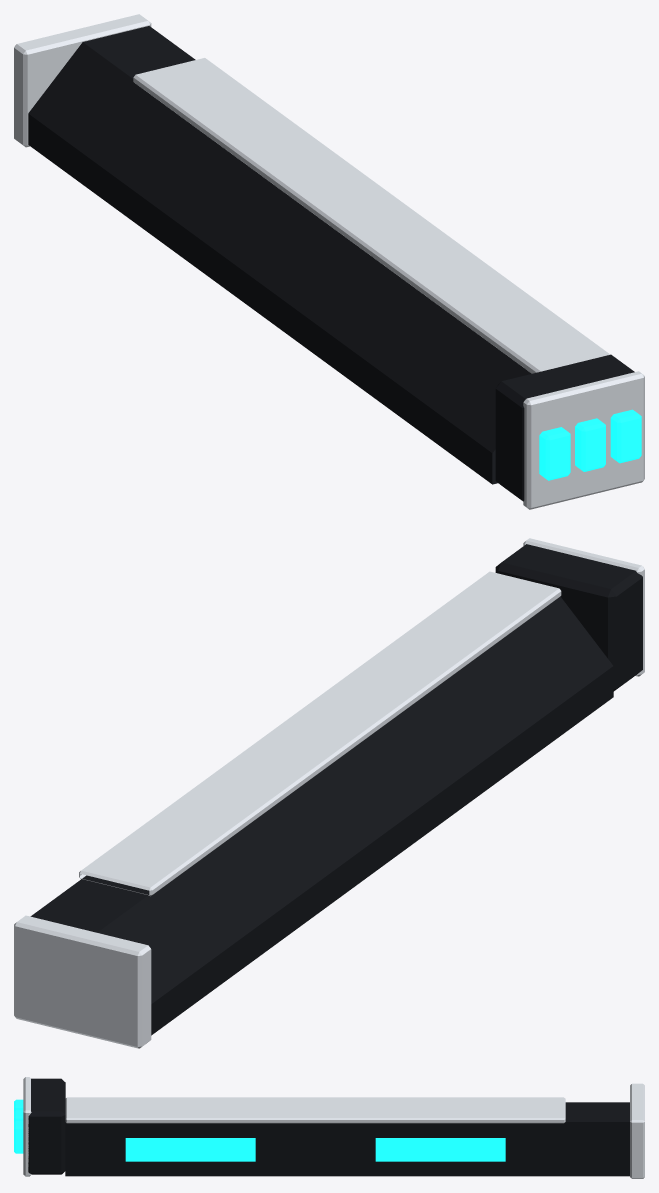
Rendered from rocket_frame.glb.
The picture shows the model from 3 angles, top to bottom: view 1: azimuth 30°, elevation 25°; view 2: azimuth 150°, elevation 25°; view 3: azimuth 270°, elevation 25°; orthographic projection. The views are drawn at different scales.
Parts seen in each view (by area): view 1: rocket_frame_MID_deco_body, rocket_frame_MID_chrome, rocket_frame_TAIL_deco_body, rocket_frame_HEAD_chrome, rocket_frame_HEAD_deco_body, rocket_frame_TAIL_chrome, rocket_frame_HEAD_deco_neon; view 2: rocket_frame_MID_deco_body, rocket_frame_MID_chrome, rocket_frame_TAIL_chrome, rocket_frame_TAIL_deco_body, rocket_frame_HEAD_deco_body, rocket_frame_HEAD_chrome; view 3: rocket_frame_MID_deco_body, rocket_frame_MID_chrome, rocket_frame_MID_deco_neon, rocket_frame_TAIL_deco_body, rocket_frame_HEAD_deco_body, rocket_frame_TAIL_chrome, rocket_frame_HEAD_chrome, rocket_frame_HEAD_deco_neon.
Part boxes in pixels (x1,y1,x2,y2): rocket_frame_MID_deco_body: (81, 83, 531, 484); rocket_frame_MID_chrome: (133, 58, 609, 373); rocket_frame_TAIL_deco_body: (28, 26, 195, 183); rocket_frame_HEAD_chrome: (523, 371, 644, 509); rocket_frame_HEAD_deco_body: (495, 354, 634, 501); rocket_frame_TAIL_chrome: (14, 14, 151, 147); rocket_frame_HEAD_deco_neon: (539, 409, 641, 480); rocket_frame_MID_deco_body: (81, 596, 613, 997); rocket_frame_MID_chrome: (79, 571, 561, 896); rocket_frame_TAIL_chrome: (14, 915, 151, 1048); rocket_frame_TAIL_deco_body: (30, 879, 202, 1035); rocket_frame_HEAD_deco_body: (495, 544, 642, 691); rocket_frame_HEAD_chrome: (523, 538, 644, 676); rocket_frame_MID_deco_body: (65, 1120, 565, 1176); rocket_frame_MID_chrome: (65, 1097, 565, 1123); rocket_frame_MID_deco_neon: (125, 1138, 505, 1161); rocket_frame_TAIL_deco_body: (565, 1102, 629, 1176); rocket_frame_HEAD_deco_body: (28, 1078, 65, 1174); rocket_frame_TAIL_chrome: (630, 1083, 644, 1178); rocket_frame_HEAD_chrome: (23, 1077, 31, 1176); rocket_frame_HEAD_deco_neon: (14, 1099, 23, 1153).
Size of the model in its own units: 0.18 by 0.148 by 1.26.
